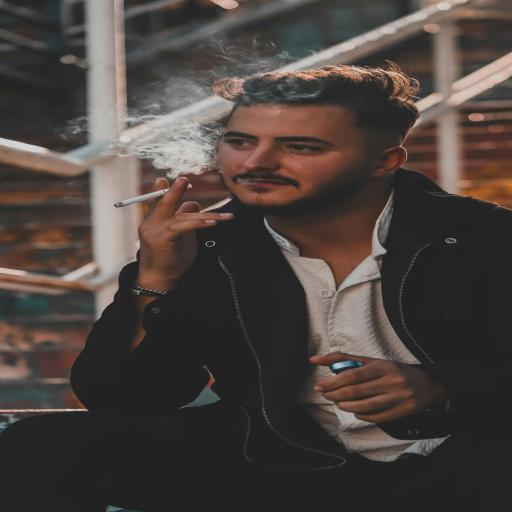terdeteksi pegang rokok: (104, 151, 241, 257)
